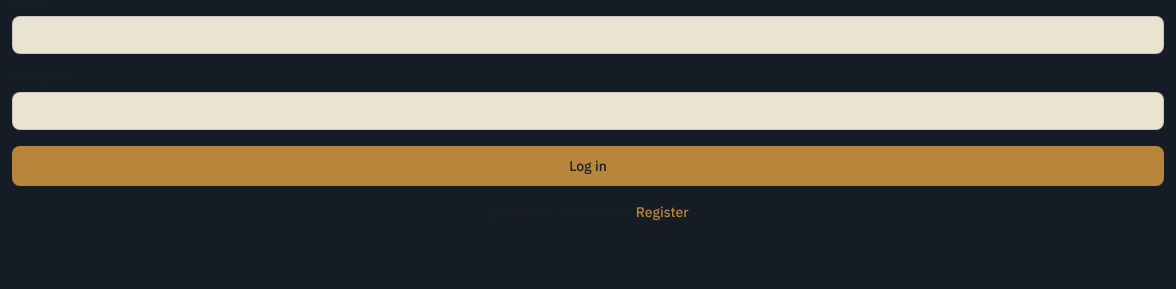
it: LoginForm › shows validation errors and does not submit when fields are invalid
In the field labelled "Email": (588, 35) [12, 16, 1164, 54], type "not-an-email"
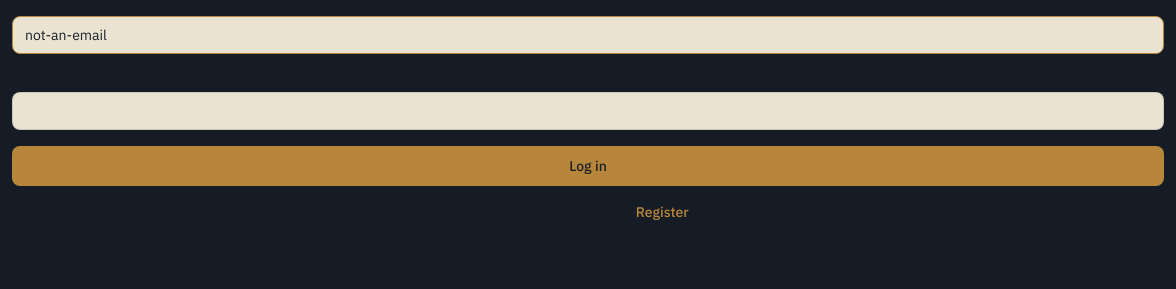
In the password field labelled "Password": (588, 111) [12, 92, 1164, 130], type "short"
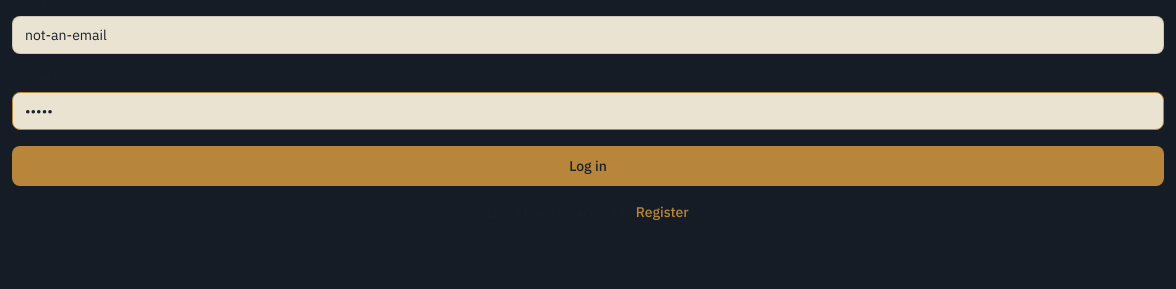
Click the button "Log in": (588, 166) [12, 146, 1164, 186]
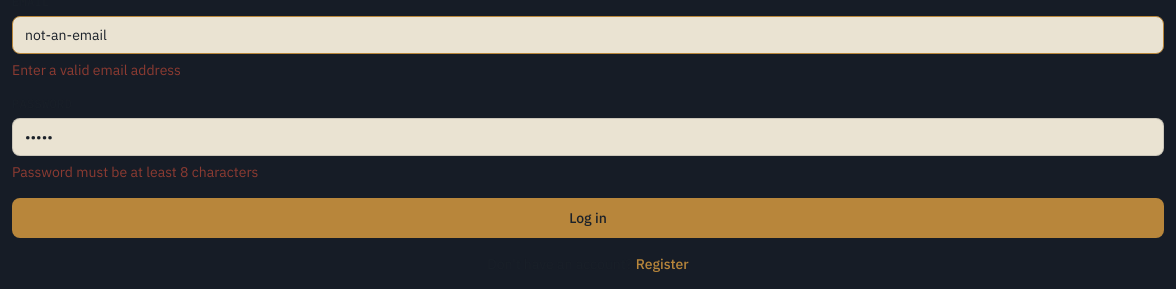
Check: the text "Enter a valid email address" is shown, box [12, 61, 181, 79]
Check: the text "Password must be at least 8 characters" is shown, box [12, 163, 258, 181]
